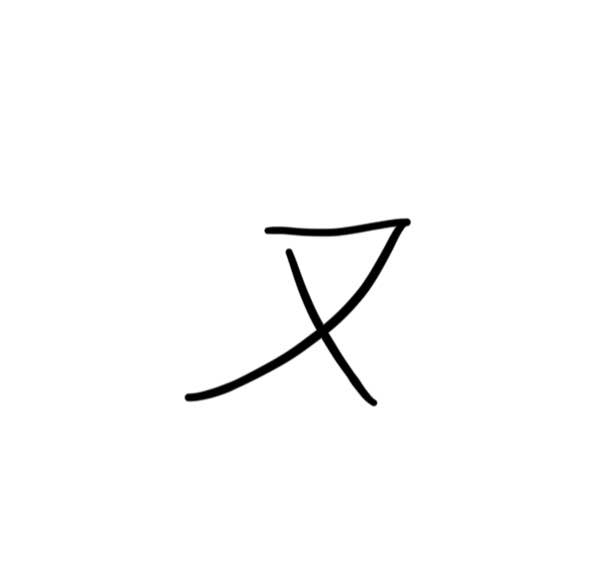nu: (165, 210, 421, 424)
